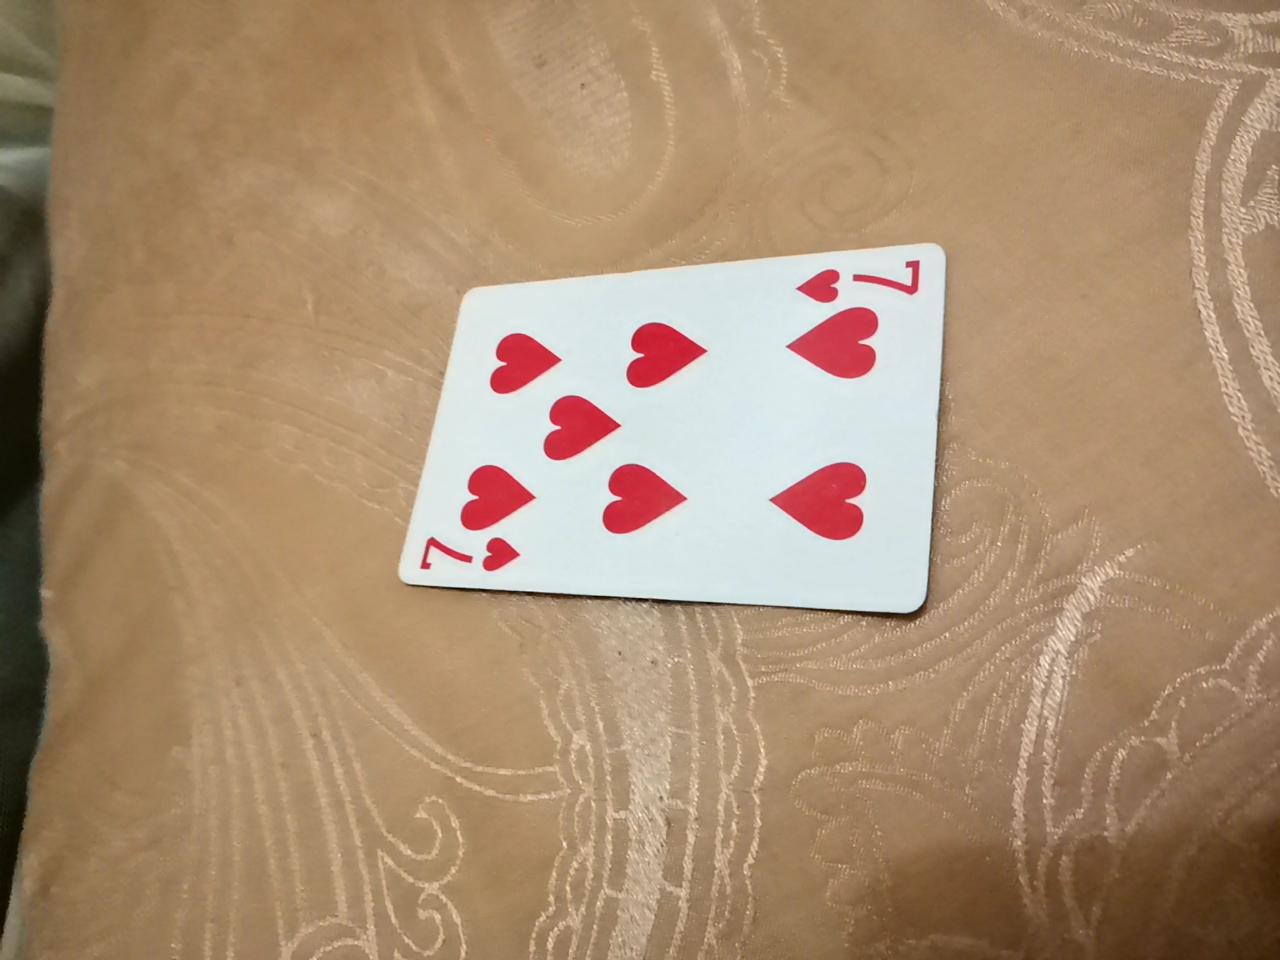hx 7: (395, 249, 949, 614)
